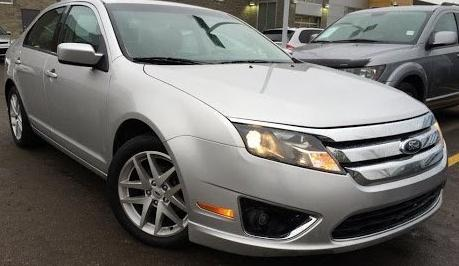Cars: (5, 3, 448, 256)
